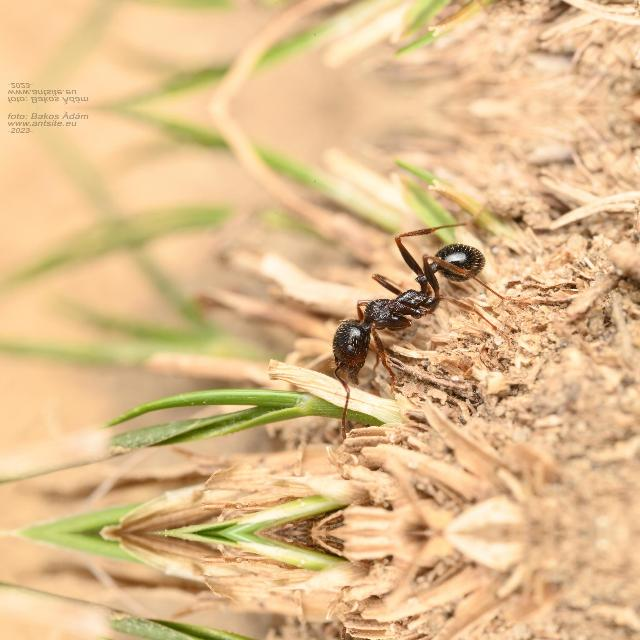Messor: (307, 209, 498, 403)
